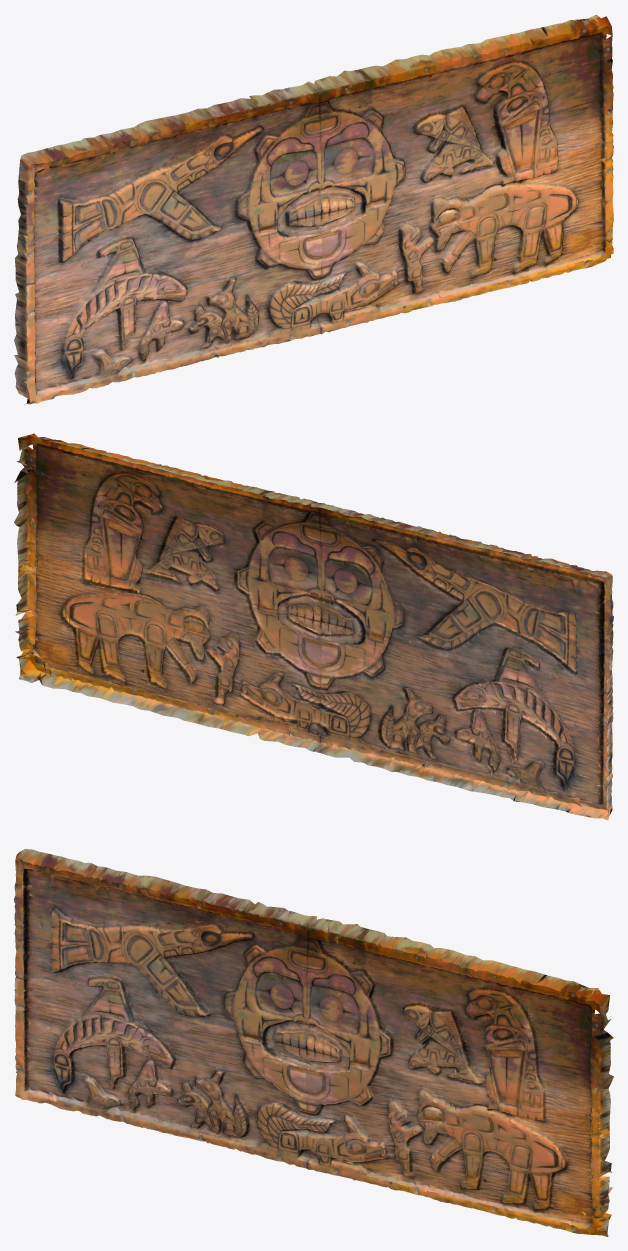
File: four-sacred-animal.glb
3 renders of one model, top to bottom at view 1: azimuth 30°, elevation 25°; view 2: azimuth 150°, elevation 25°; view 3: azimuth 330°, elevation 25°, orthographic.
Visible parts, largest first — view 1: wood_carving_geo; view 2: wood_carving_geo; view 3: wood_carving_geo.
Part boxes in pixels (x1,y1,x2,y2): wood_carving_geo: [14, 14, 613, 404]; wood_carving_geo: [14, 433, 613, 820]; wood_carving_geo: [14, 849, 613, 1236].
Bounding box in the file's own units: 0.0207 × 0.00825 × 0.000929.
1 material, 1 textured.
